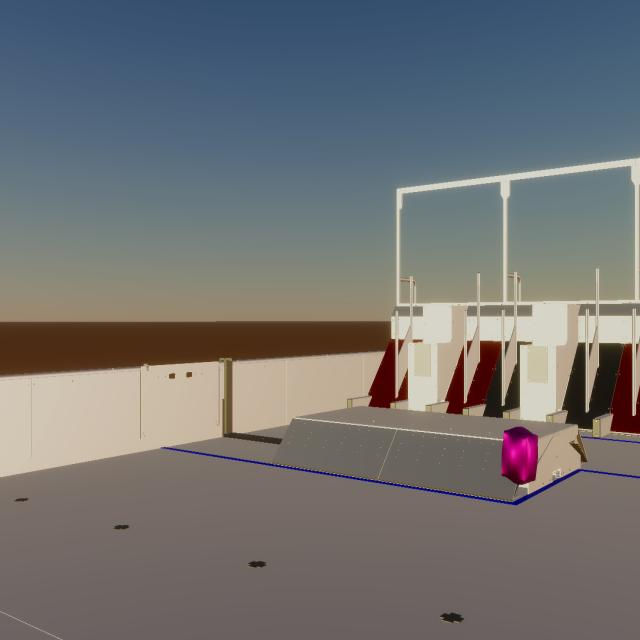frc_cube: (502, 426, 538, 484)
